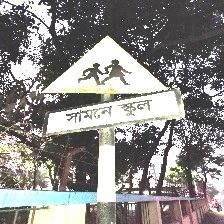School-in-front: (41, 36, 183, 135)
